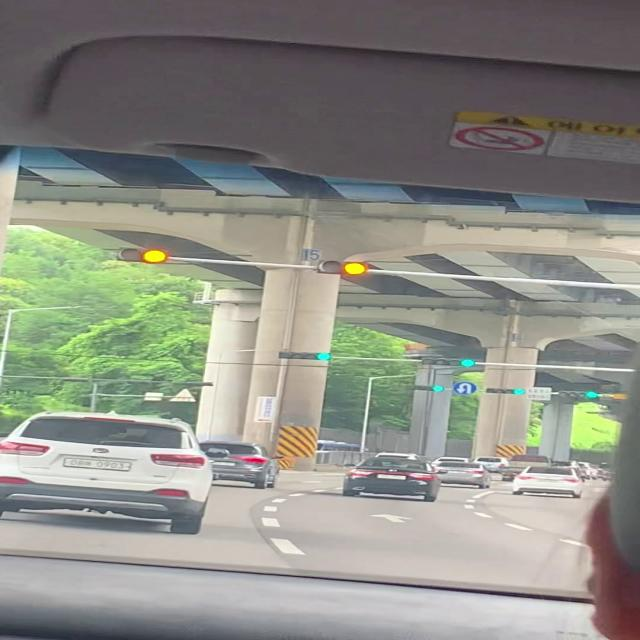yellow_light: (118, 248, 167, 262), (318, 261, 367, 275)
